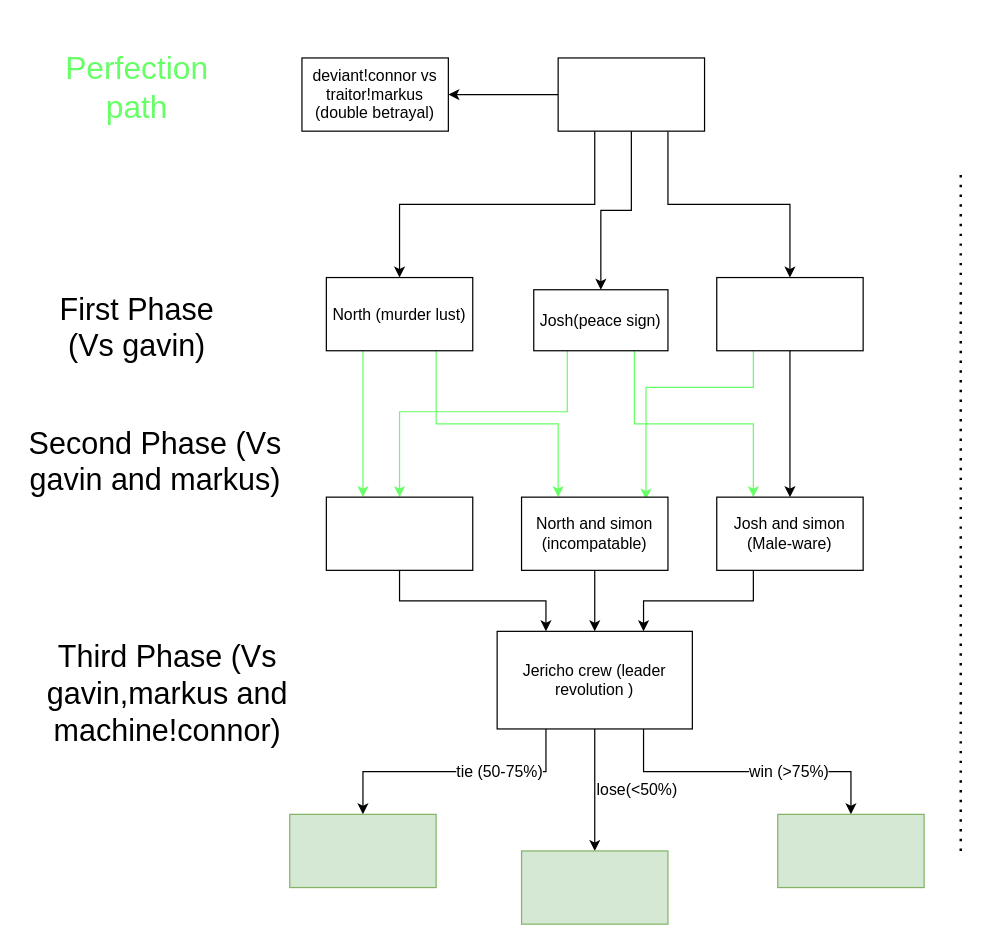
Some shapes in this 983 by 946 pixel diagram are drawn without their labels. The shapes that lost their labels are listed below. From the top down, each one's centre as x and y in pixels, then its label:
At point 631,94: "Prolouge".
At point 789,313: "Simon (left no one)".
At point 399,533: "North and josh (freedom or death)".
